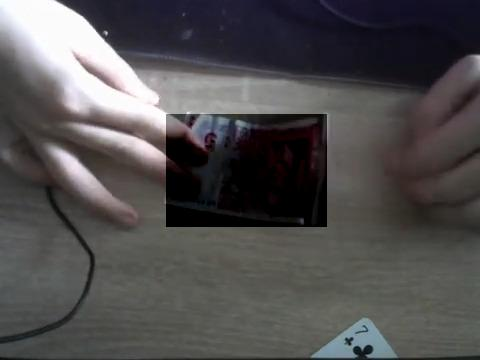5leva: (166, 114, 327, 227)
